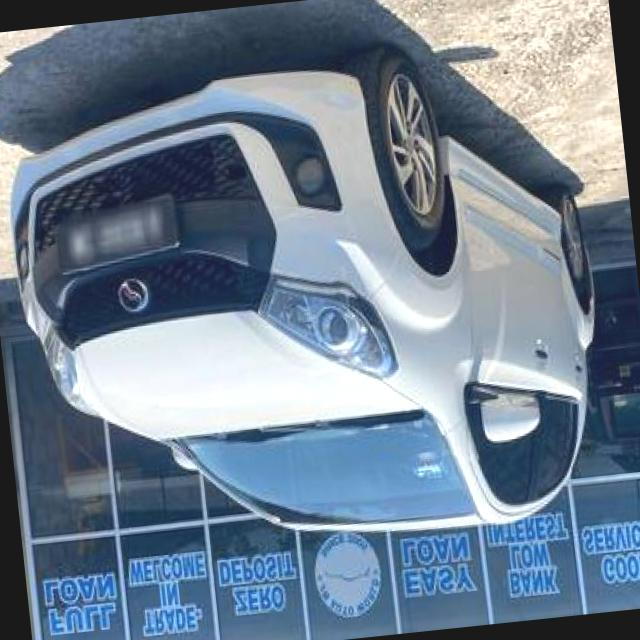PeroduaMyvi: (0, 25, 619, 578)
